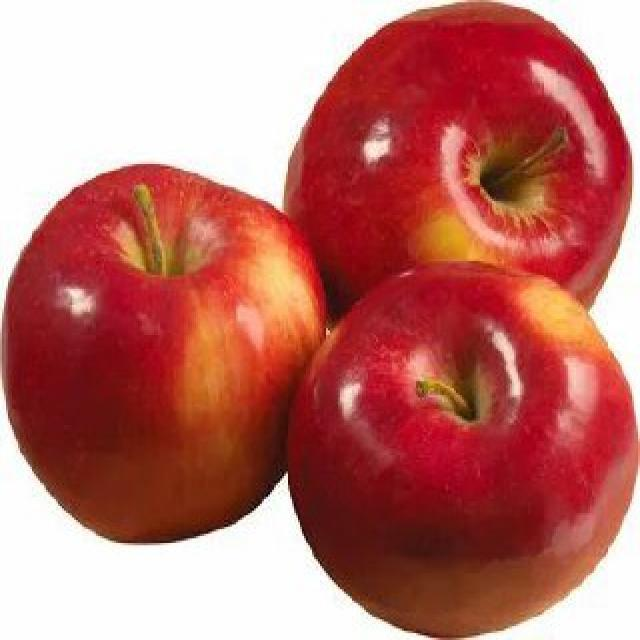Fresh Apple: (306, 241, 640, 640), (18, 168, 307, 544), (293, 11, 640, 293)
